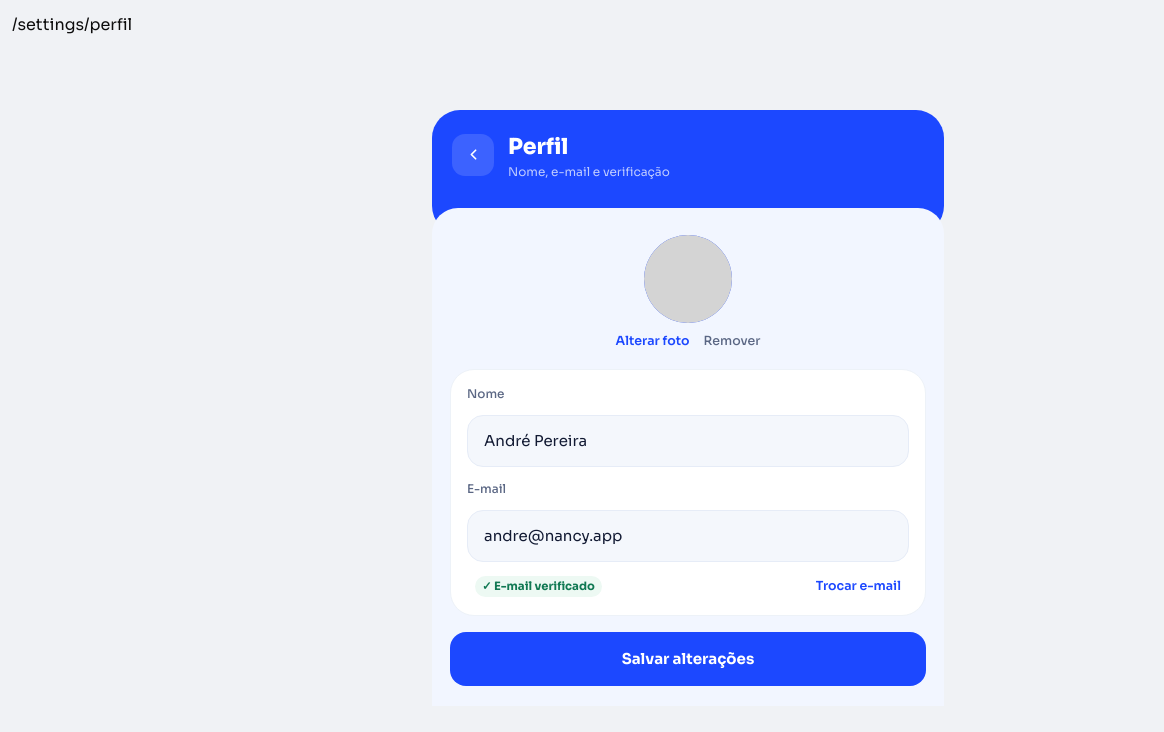
Test: Dados pessoais — foto › "Remover" apaga a foto e volta às iniciais
Step 1. Click the button "Remover" → click(732, 341), box [704, 333, 760, 349]
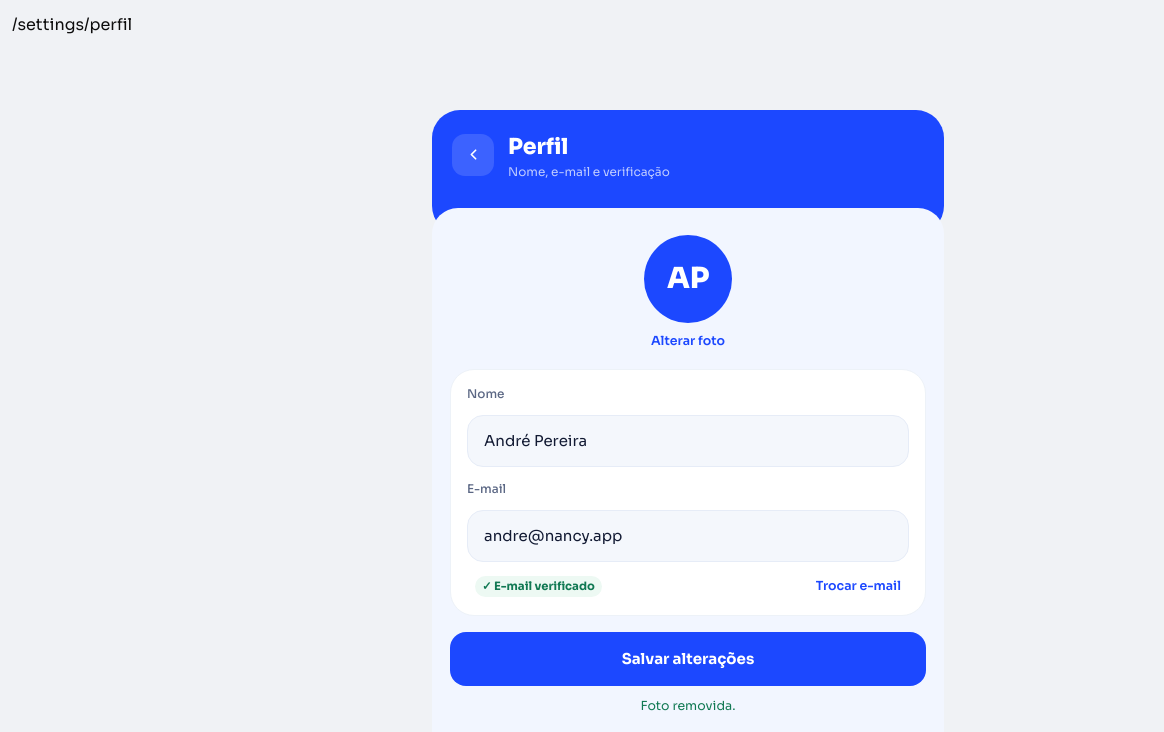
Expected: the text "Foto removida." is shown, [640, 698, 736, 714]
Expected: the picture is gone
Expected: the element showing "AP" is shown, [644, 235, 732, 323]
